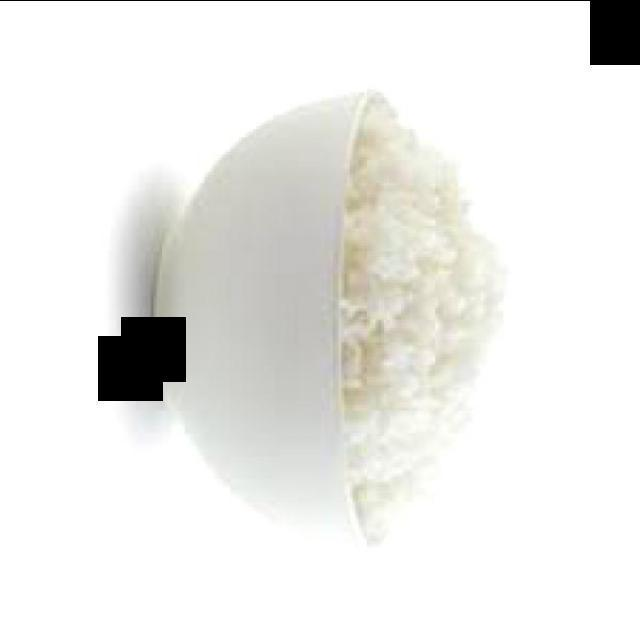Chicken -Chicken Inasal-: (342, 99, 499, 539)
